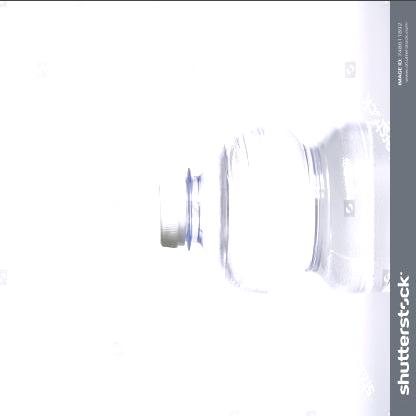bottle: (152, 112, 390, 296)
